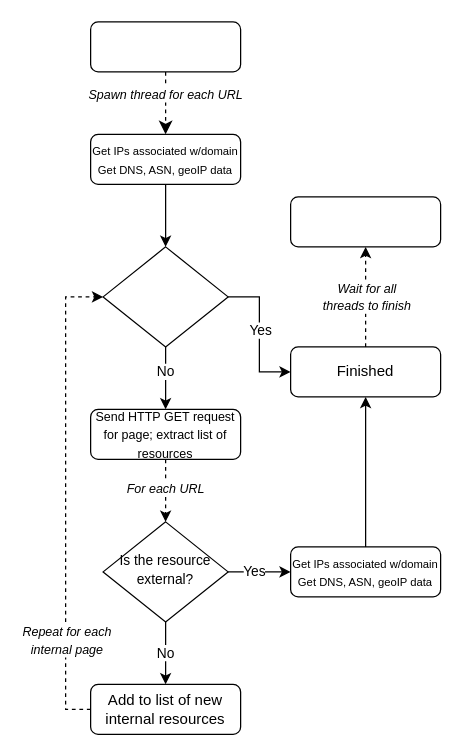
Image size: 463x756. Some labels were removed from this diagram. Each missing label, with the centre of its shape:
"Have we seen this URL yet?" goes at point 165,296.
"List of Top-Level URLs" goes at point 165,46.
"Write JSON output" goes at point 365,221.
